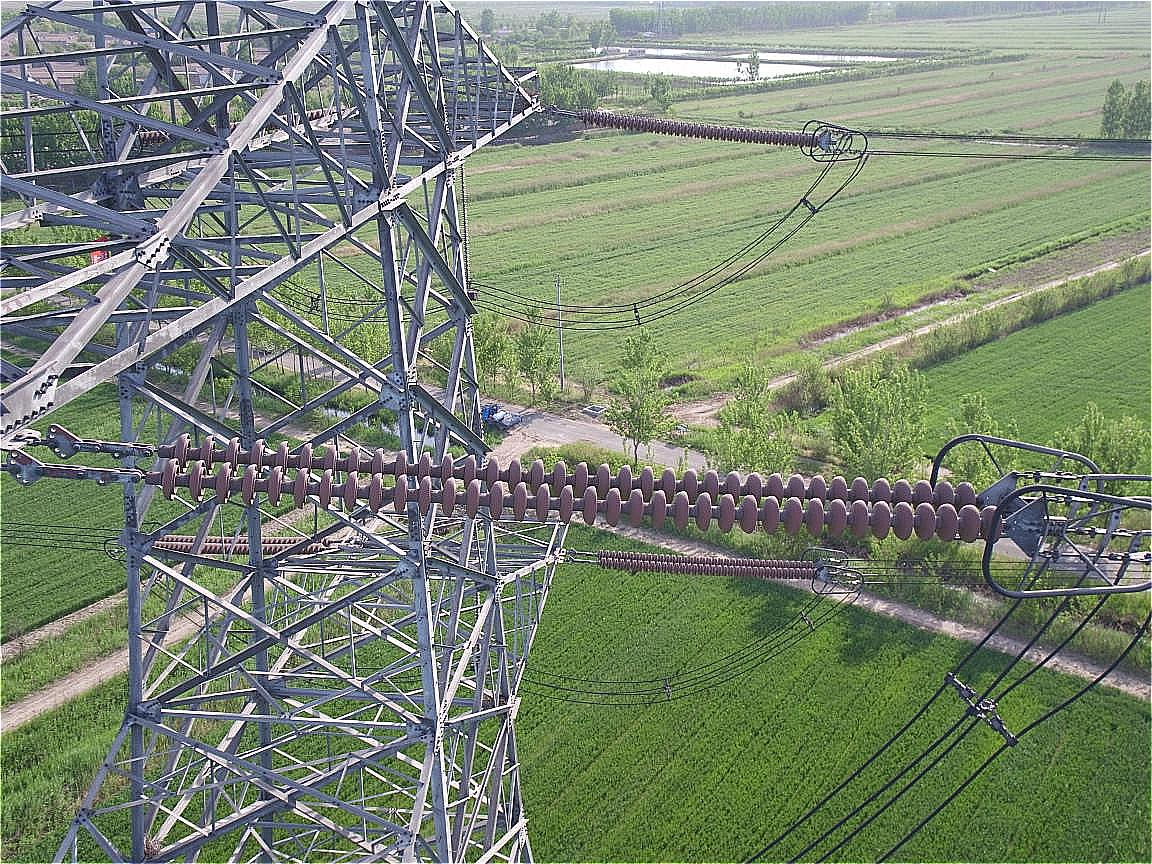insultor1: (133, 419, 1015, 566)
insultor2: (586, 539, 831, 592)
